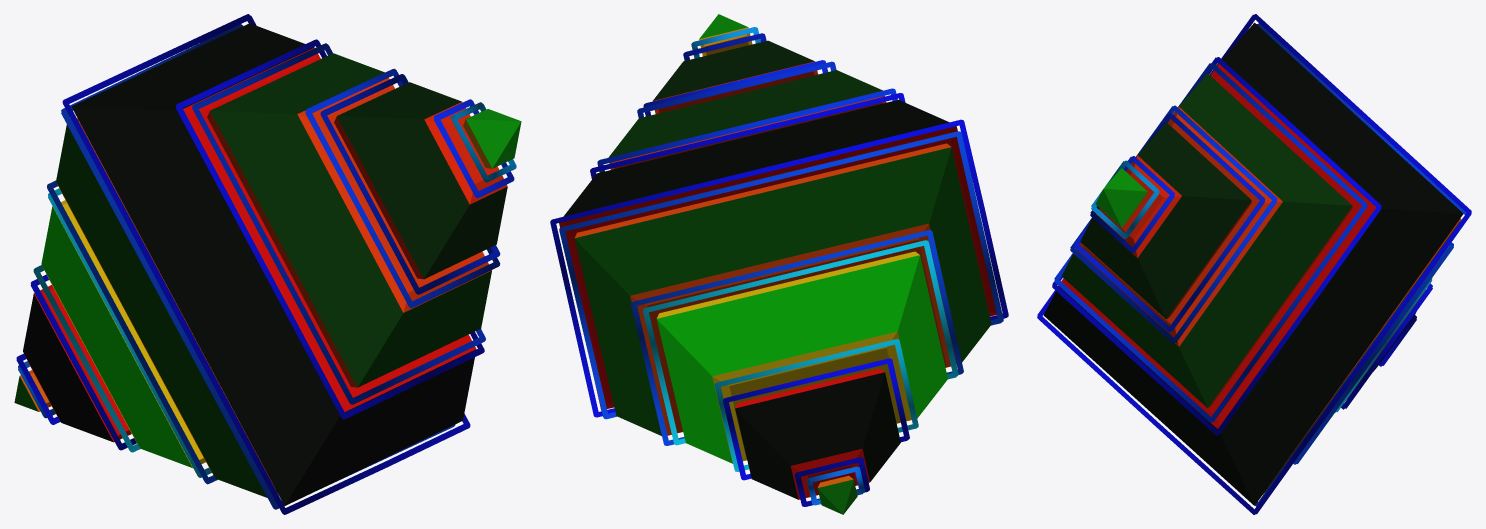
Rendered from FX_Mesh_Octahedron_A_Hirez.fbx.
The picture shows the model from 3 angles, left to right: view 1: azimuth 30°, elevation 25°; view 2: azimuth 150°, elevation 25°; view 3: azimuth 270°, elevation 25°; orthographic projection. The views are drawn at different scales.
Visible parts, largest first — view 1: Octahedron_A_Hirez; view 2: Octahedron_A_Hirez; view 3: Octahedron_A_Hirez.
Part boxes in pixels (<box>): Octahedron_A_Hirez: <box>14,14,521,514</box>; Octahedron_A_Hirez: <box>550,14,1008,514</box>; Octahedron_A_Hirez: <box>1037,14,1471,514</box>.
Bounding box in the file's own units: 938 × 938 × 1076.
